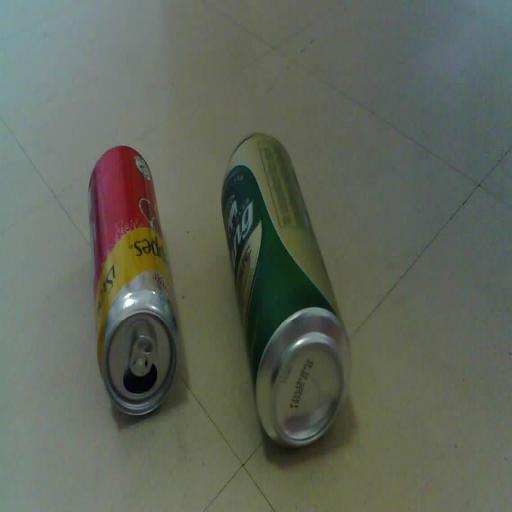canned: (212, 126, 358, 462), (83, 135, 184, 432)
